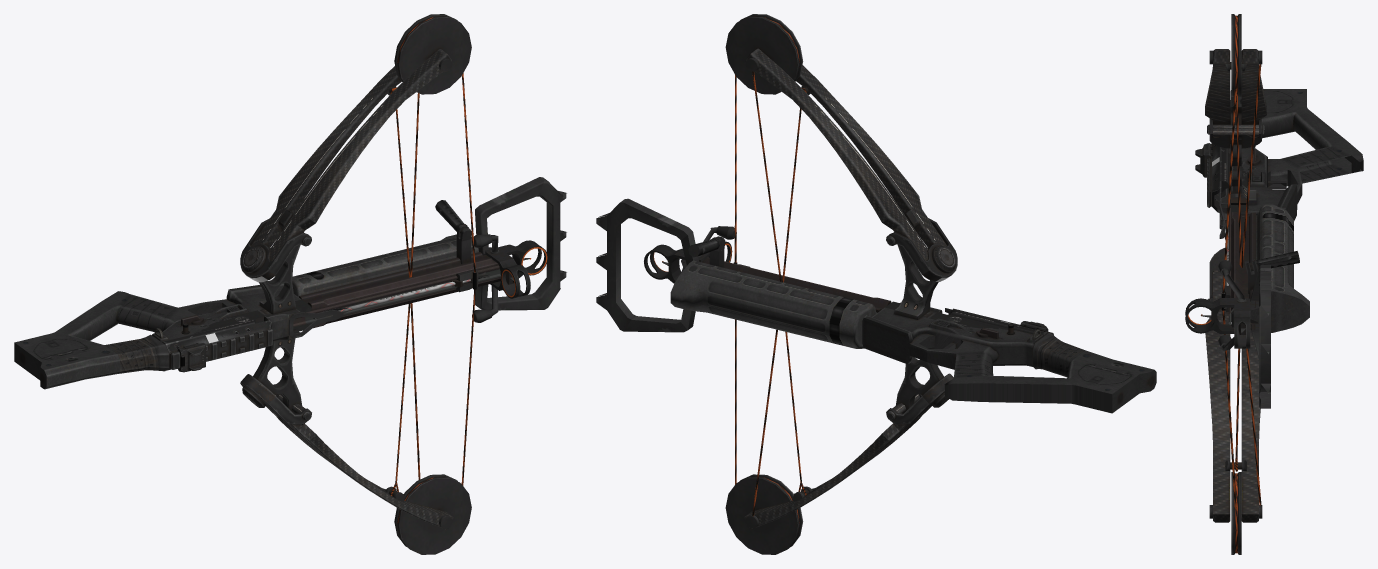
The model's file is t6_wpn_crossbow_view_LOD0.obj.
3 renders of one model, left to right at view 1: azimuth 30°, elevation 25°; view 2: azimuth 150°, elevation 25°; view 3: azimuth 270°, elevation 25°, orthographic.
Parts seen in each view (by area): view 1: mtl_t6_wpn_crossbow, mtl_t6_wpn_crossbow_camo1, mtl_t6_wpn_crossbow_camo2, mtl_t6_wpn_crossbow_camo3; view 2: mtl_t6_wpn_crossbow, mtl_t6_wpn_crossbow_camo1, mtl_t6_wpn_crossbow_camo2, mtl_t6_wpn_crossbow_camo3; view 3: mtl_t6_wpn_crossbow_camo1, mtl_t6_wpn_crossbow, mtl_t6_wpn_crossbow_camo3, mtl_t6_wpn_crossbow_camo2.
Part boxes in pixels (bbox=[...]): mtl_t6_wpn_crossbow: bbox=[14, 15, 566, 554]; mtl_t6_wpn_crossbow_camo1: bbox=[104, 49, 560, 529]; mtl_t6_wpn_crossbow_camo2: bbox=[180, 54, 560, 528]; mtl_t6_wpn_crossbow_camo3: bbox=[103, 14, 500, 548]; mtl_t6_wpn_crossbow: bbox=[596, 15, 1156, 554]; mtl_t6_wpn_crossbow_camo1: bbox=[607, 48, 1084, 528]; mtl_t6_wpn_crossbow_camo2: bbox=[653, 54, 1042, 528]; mtl_t6_wpn_crossbow_camo3: bbox=[737, 14, 1038, 548]; mtl_t6_wpn_crossbow_camo1: bbox=[1185, 49, 1309, 522]; mtl_t6_wpn_crossbow: bbox=[1207, 14, 1363, 554]; mtl_t6_wpn_crossbow_camo3: bbox=[1209, 14, 1363, 554]; mtl_t6_wpn_crossbow_camo2: bbox=[1188, 50, 1309, 522].
Bounding box in the file's own units: 74.33 × 70.52 × 21.37.
